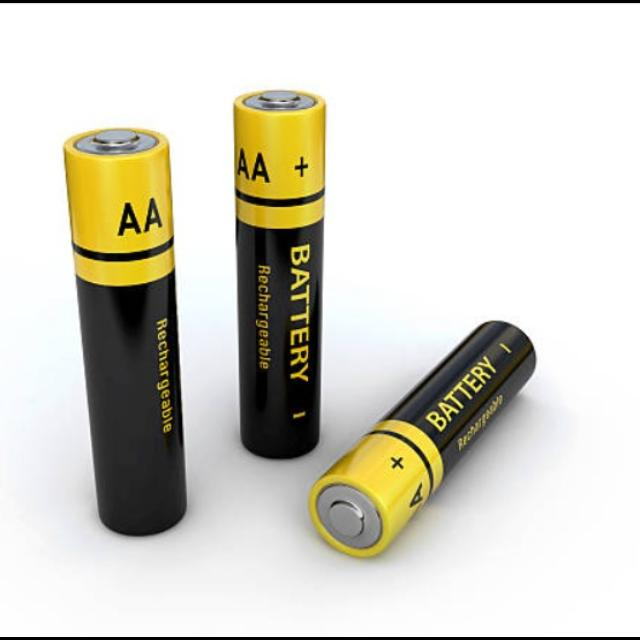Battery: (310, 322, 536, 558), (63, 129, 187, 537), (235, 89, 325, 459)
